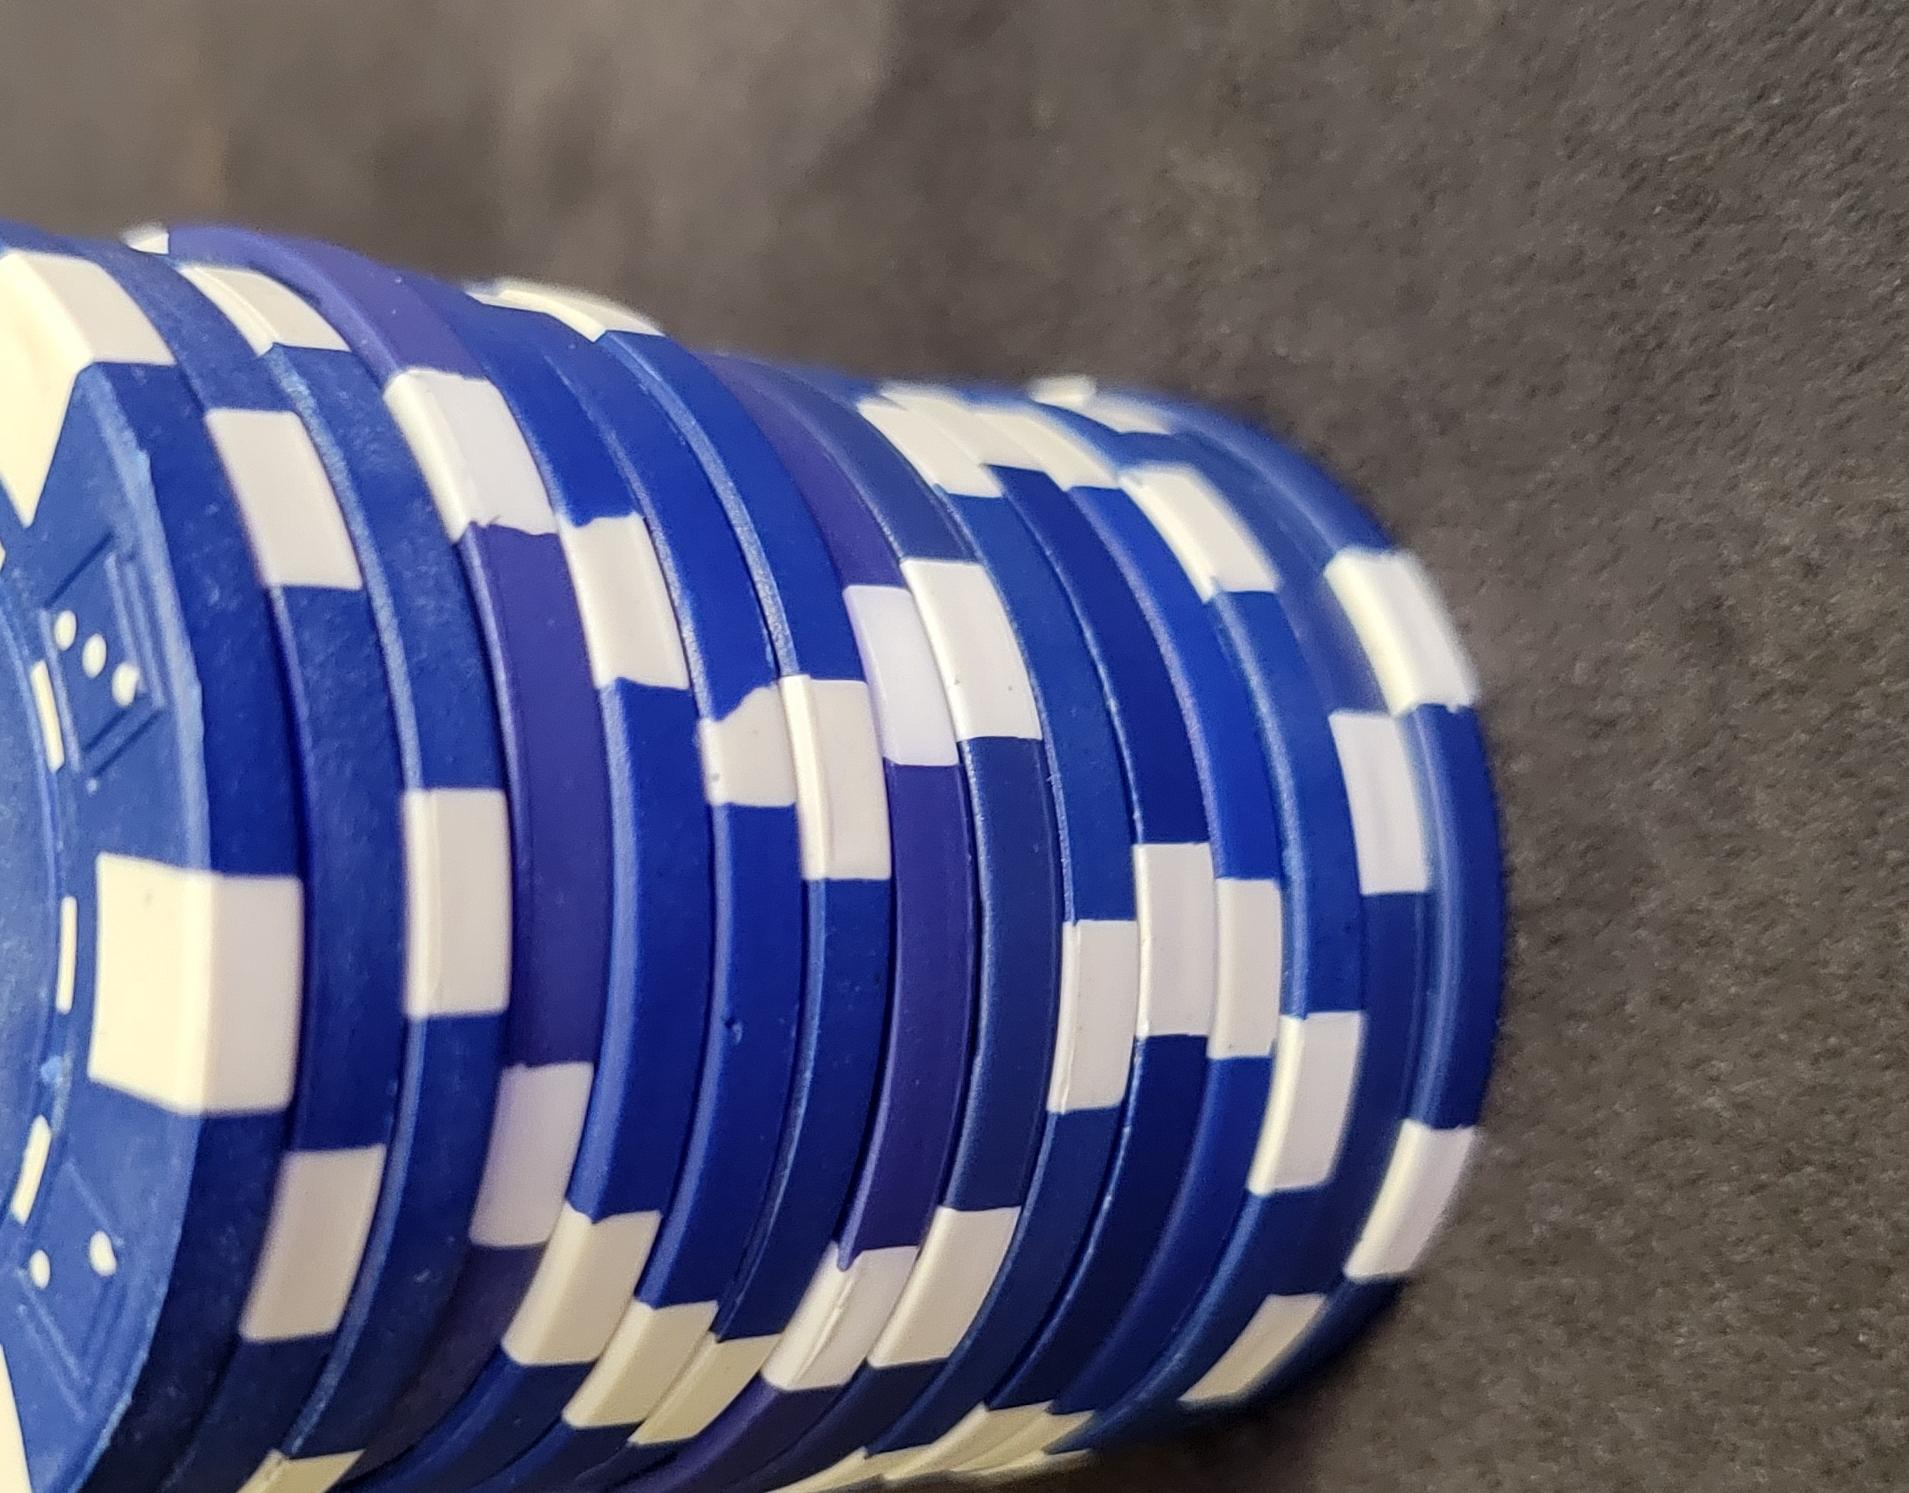Chip: (2, 184, 1139, 1493)
